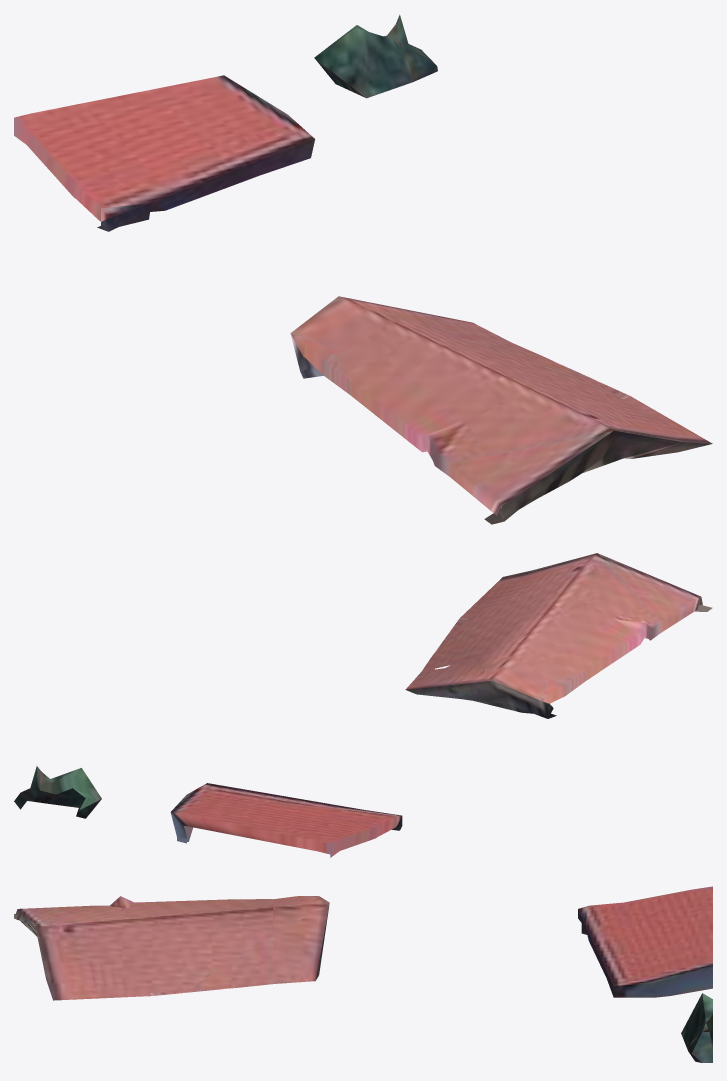
3 renders of one model, top to bottom at view 1: azimuth 30°, elevation 25°; view 2: azimuth 150°, elevation 25°; view 3: azimuth 270°, elevation 25°, orthographic. The views are drawn at different scales.
Parts seen in each view (by area): view 1: 30436272704370405635_0; view 2: 30436272704370405635_0; view 3: 30436272704370405635_0.
Part boxes in pixels (left/top/right/bottom): 30436272704370405635_0: left=14, top=14, right=712, bottom=524; 30436272704370405635_0: left=14, top=553, right=712, bottom=857; 30436272704370405635_0: left=14, top=886, right=712, bottom=1062.
Size of the model in its own units: 15.34 by 2.31 by 30.39.
Materials: 1 (1 with a texture image).
